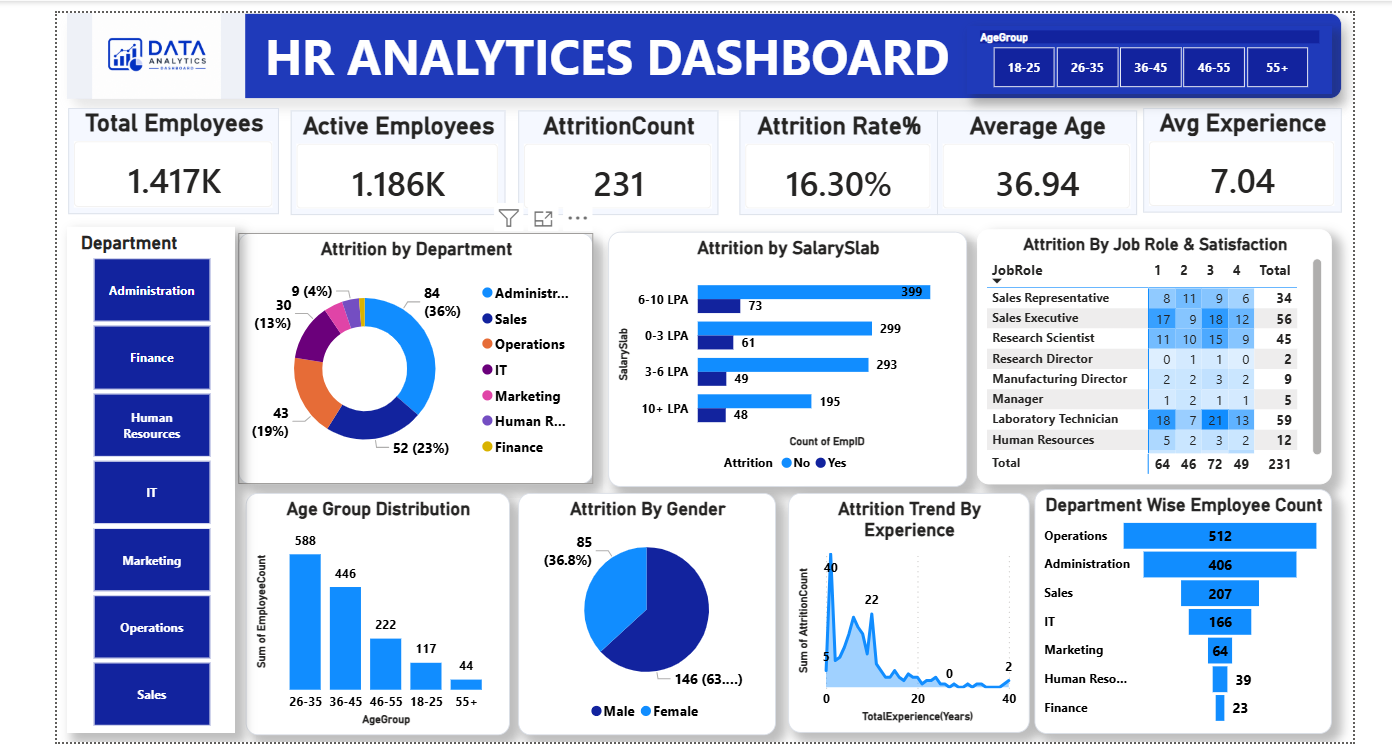

Layout of this report page (visuals, bound fields, positions):
{"tool":"powerbi","page":{"name":"Page 1","canvas":[1280,720],"ordinal":0},"visuals":[{"type":"textbox","box":[10,0,1259,85],"z":0},{"type":"image","box":[10.1,0,176,85],"z":1000},{"type":"cardVisual","title":"Total Employees","fields":{"Data":["CountNonNull(HR_Analytics-4.EmpID)"]},"box":[10.7,94.3,208.2,105],"z":2000},{"type":"cardVisual","title":"Active Employees","fields":{"Data":["CountNonNull(HR_Analytics-4.EmployeeCount)"]},"box":[231.4,96.1,211.8,103.2],"z":3000},{"type":"cardVisual","title":"AttritionCount","fields":{"Data":["Sum(HR_Analytics-4.AttritionCount)"]},"box":[455.6,96.1,197.6,103.2],"z":4000},{"type":"cardVisual","title":"Attrition Rate%","fields":{"Data":["HR_Analytics-4.Attrition Rate %"]},"box":[674.5,96.1,195.8,103.2],"z":5000},{"type":"cardVisual","title":"Average Age","fields":{"Data":["Avg(HR_Analytics-4.Age)"]},"box":[868.5,96.1,197.6,103.2],"z":6000},{"type":"cardVisual","title":"Avg Experience","fields":{"Data":["Avg(HR_Analytics-4.YearsatCompany)"]},"box":[1073.2,94.3,195.8,103.2],"z":7000},{"type":"donutChart","title":"Attrition by Department","fields":{"Category":["HR_Analytics-4.Department"],"Y":["Sum(HR_Analytics-4.AttritionCount)"]},"box":[178.9,217.9,350.6,248.2],"z":8000},{"type":"clusteredBarChart","title":"Attrition by SalarySlab","fields":{"Category":["HR_Analytics-4.SalarySlab"],"Y":["CountNonNull(HR_Analytics-4.EmpID)"],"Series":["HR_Analytics-4.Attrition"]},"box":[544.4,216,354.3,251.9],"z":9000},{"type":"pivotTable","title":"Attrition By Job Role & Satisfaction","fields":{"Rows":["HR_Analytics-4.JobRole"],"Values":["Sum(HR_Analytics-4.AttritionCount)"],"Columns":["HR_Analytics-4.JobSatisfaction"]},"box":[908.6,213.6,350.6,251.9],"z":9001},{"type":"columnChart","title":"Age Group Distribution","fields":{"Category":["HR_Analytics-4.AgeGroup"],"Y":["Sum(HR_Analytics-4.EmployeeCount)"]},"box":[186.4,474.1,260.5,239.5],"z":9002},{"type":"pieChart","title":"Attrition By Gender","fields":{"Category":["HR_Analytics-4.Gender"],"Y":["Sum(HR_Analytics-4.AttritionCount)"]},"box":[455.6,474.1,254.3,239.5],"z":9003},{"type":"areaChart","title":"Attrition Trend By Experience","fields":{"Y":["Sum(HR_Analytics-4.AttritionCount)"],"Category":["HR_Analytics-4.TotalExperience(Years)"]},"box":[722.2,474.1,238.3,237],"z":9004},{"type":"funnel","title":"Department Wise Employee Count","fields":{"Category":["HR_Analytics-4.Department"],"Y":["CountNonNull(HR_Analytics-4.EmpID)"]},"box":[965.4,470.4,293.8,242],"z":9005},{"type":"slicer","fields":{"Values":["HR_Analytics-4.Department"]},"box":[9.9,211.1,165.4,500],"z":9006},{"type":"slicer","fields":{"Values":["HR_Analytics-4.AgeGroup"]},"box":[899,12,361,68],"z":9007}]}

Visuals, with their boxes on the page's 1280x720 design canvas (x1, y1, x2, y2). These are canvas units, not pixel positions in the 1392x749 screenshot, which may show the page scaled, cropped or inside an application window:
textbox: region(10, 0, 1269, 85)
image: region(10, 0, 186, 85)
"Total Employees" cardVisual: region(11, 94, 219, 199)
"Active Employees" cardVisual: region(231, 96, 443, 199)
"AttritionCount" cardVisual: region(456, 96, 653, 199)
"Attrition Rate%" cardVisual: region(674, 96, 870, 199)
"Average Age" cardVisual: region(868, 96, 1066, 199)
"Avg Experience" cardVisual: region(1073, 94, 1269, 198)
"Attrition by Department" donutChart: region(179, 218, 530, 466)
"Attrition by SalarySlab" clusteredBarChart: region(544, 216, 899, 468)
"Attrition By Job Role & Satisfaction" pivotTable: region(909, 214, 1259, 466)
"Age Group Distribution" columnChart: region(186, 474, 447, 714)
"Attrition By Gender" pieChart: region(456, 474, 710, 714)
"Attrition Trend By Experience" areaChart: region(722, 474, 960, 711)
"Department Wise Employee Count" funnel: region(965, 470, 1259, 712)
slicer - HR_Analytics-4.Department: region(10, 211, 175, 711)
slicer - HR_Analytics-4.AgeGroup: region(899, 12, 1260, 80)
